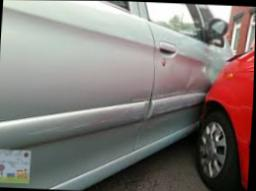Door: (137, 48, 226, 149)
